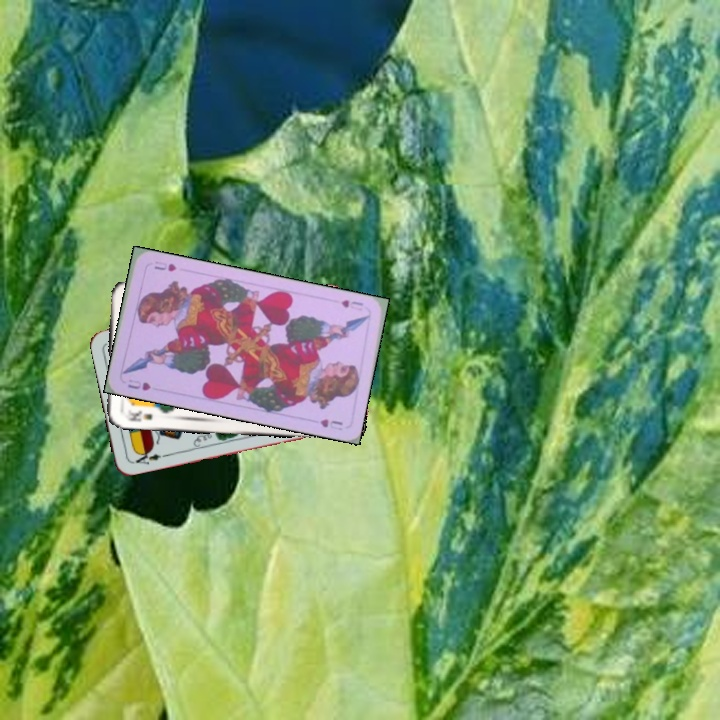EA: (129, 446, 169, 467)
EK: (120, 405, 155, 424)
HU: (123, 375, 154, 393), (337, 295, 366, 310)
